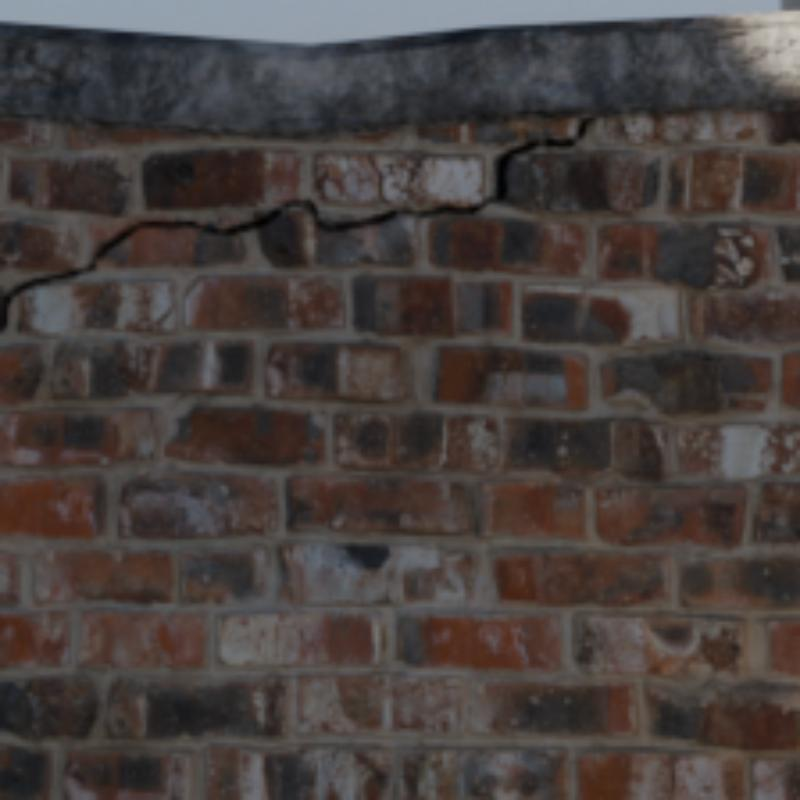pothole: (0, 118, 593, 329), (368, 154, 389, 204)
